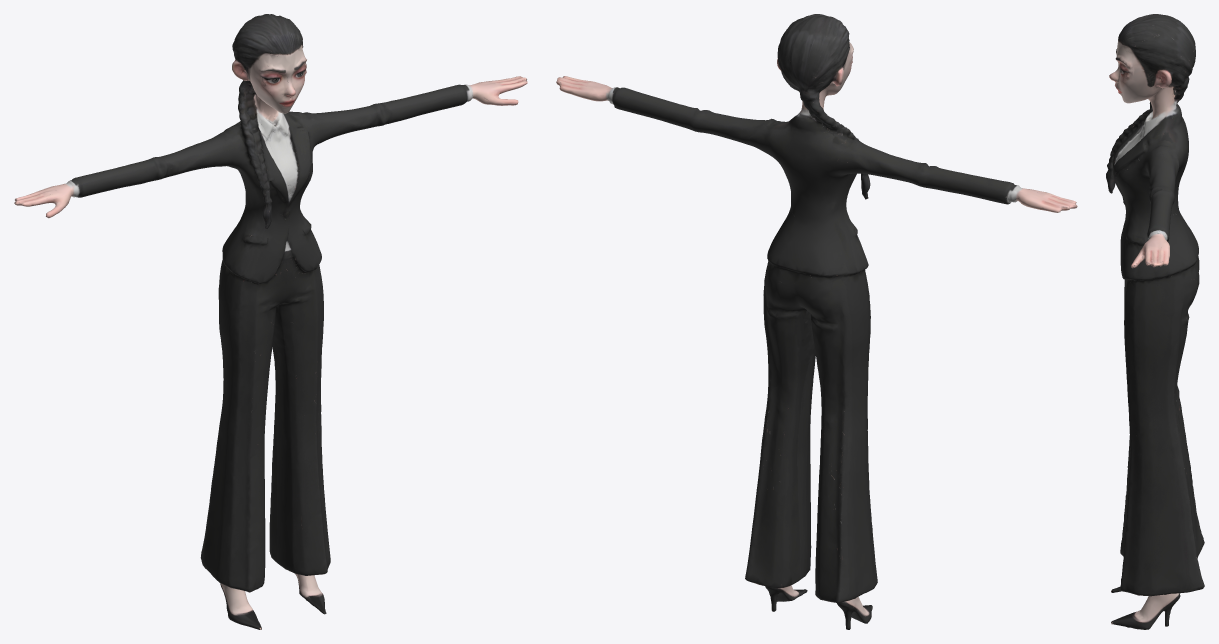
File: MelanieİsKiyafetliTPoz.fbx
3 views of the same model, side by side, from view 1: azimuth 30°, elevation 25°; view 2: azimuth 150°, elevation 25°; view 3: azimuth 270°, elevation 25° (orthographic).
Parts seen in each view (by area): view 1: Mesh_0; view 2: Mesh_0; view 3: Mesh_0.
Part boxes in pixels (x1,y1,x2,y2): Mesh_0: [14, 14, 527, 629]; Mesh_0: [556, 14, 1077, 629]; Mesh_0: [1106, 14, 1204, 629].
Size of the model in its own units: 175 by 192 by 29.
1 material, 1 textured.
